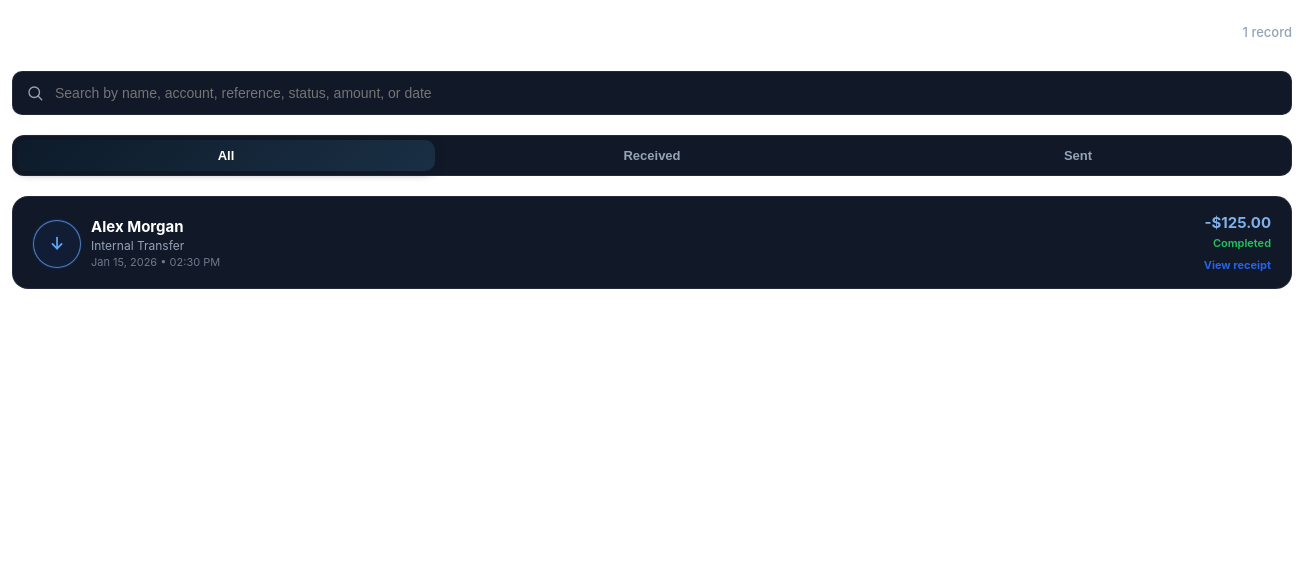
shows the recipient account number without its legacy prefix on sent receipts
Click the button with aria-label "View receipt for Alex Morgan": [57, 244] box 13,197 -> 1291,288
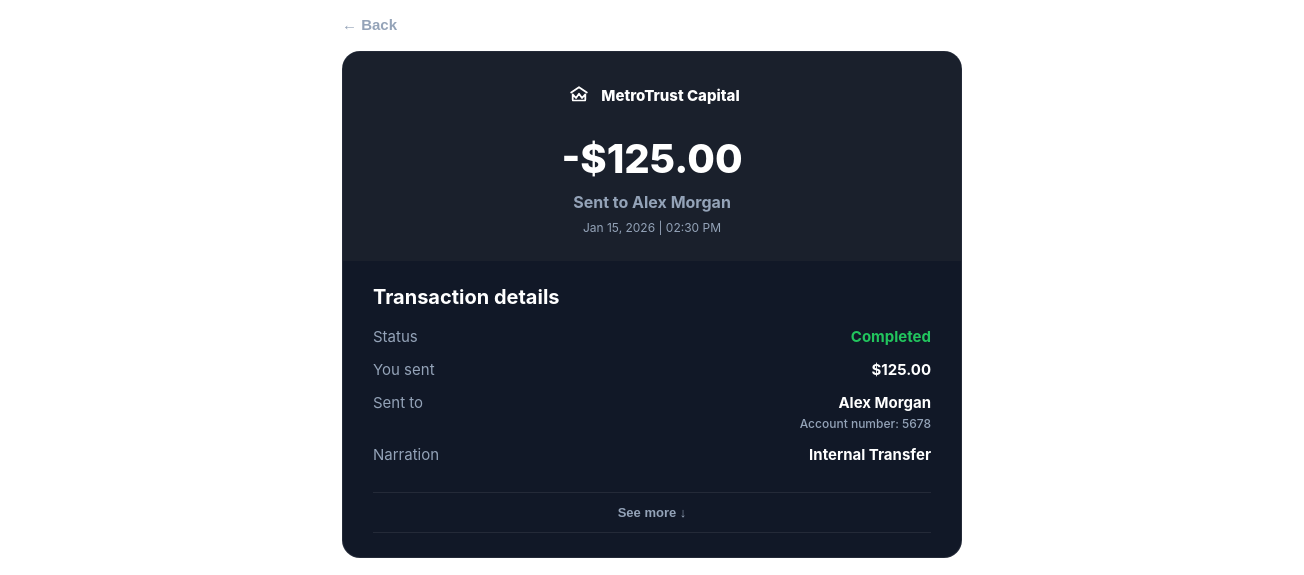
Now the text "Account number: 5678" is shown, box 800,416 -> 931,431
